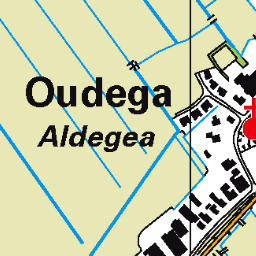church: (234, 93, 256, 143)
